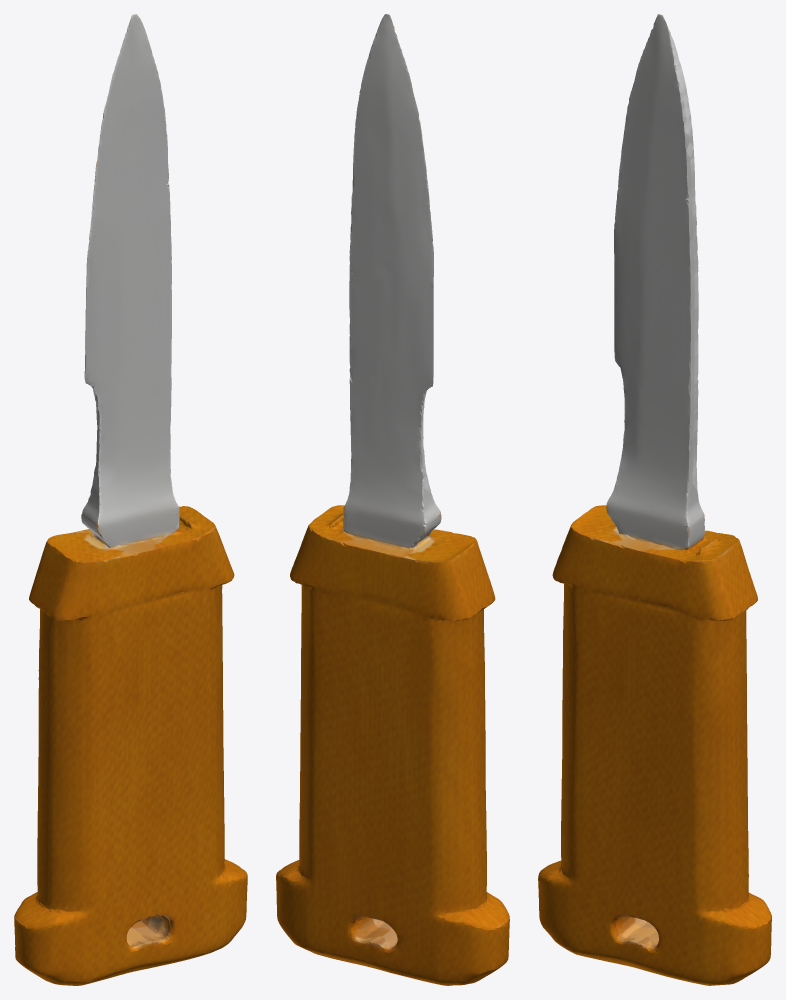
File: butter-knife.glb
The picture shows the model from 3 angles, left to right: view 1: azimuth 30°, elevation 25°; view 2: azimuth 150°, elevation 25°; view 3: azimuth 330°, elevation 25°; orthographic projection.
Parts seen in each view (by area): view 1: Butter_Knife; view 2: Butter_Knife; view 3: Butter_Knife.
Part boxes in pixels (x1=…): Butter_Knife: x1=14, y1=14, x2=247, y2=985; Butter_Knife: x1=276, y1=14, x2=509, y2=985; Butter_Knife: x1=538, y1=14, x2=771, y2=985.
Bounding box in the file's own units: 0.4689 × 1.9 × 0.1462.
1 material, 1 textured.
